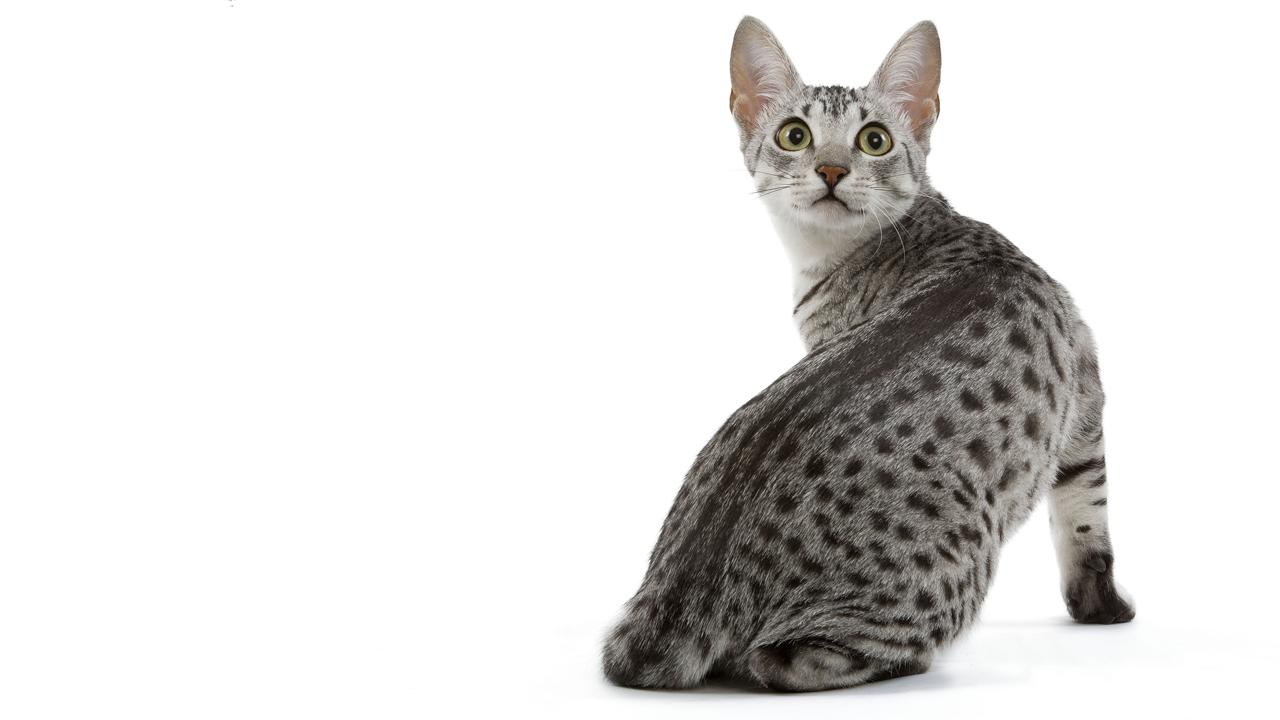Cat: (719, 12, 955, 229)
